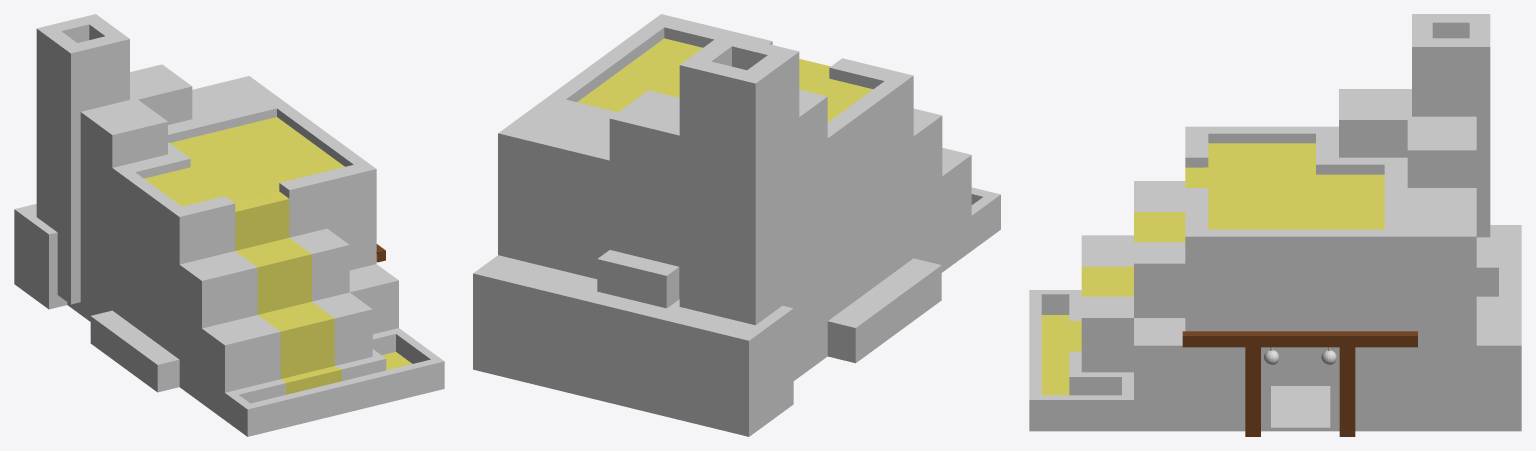
Rendered from carrara_smeltery.fbx.
3 renders of one model, left to right at view 1: azimuth 30°, elevation 25°; view 2: azimuth 150°, elevation 25°; view 3: azimuth 270°, elevation 25°, orthographic. The views are drawn at different scales.
Visible parts, largest first — view 1: carrara_smeltery; view 2: carrara_smeltery; view 3: carrara_smeltery.
Part boxes in pixels (x1,y1,x2,y2): carrara_smeltery: (14,14,444,436); carrara_smeltery: (473,14,1000,436); carrara_smeltery: (1029,14,1521,436).
Bounding box in the file's own units: 547 × 609 × 896.
